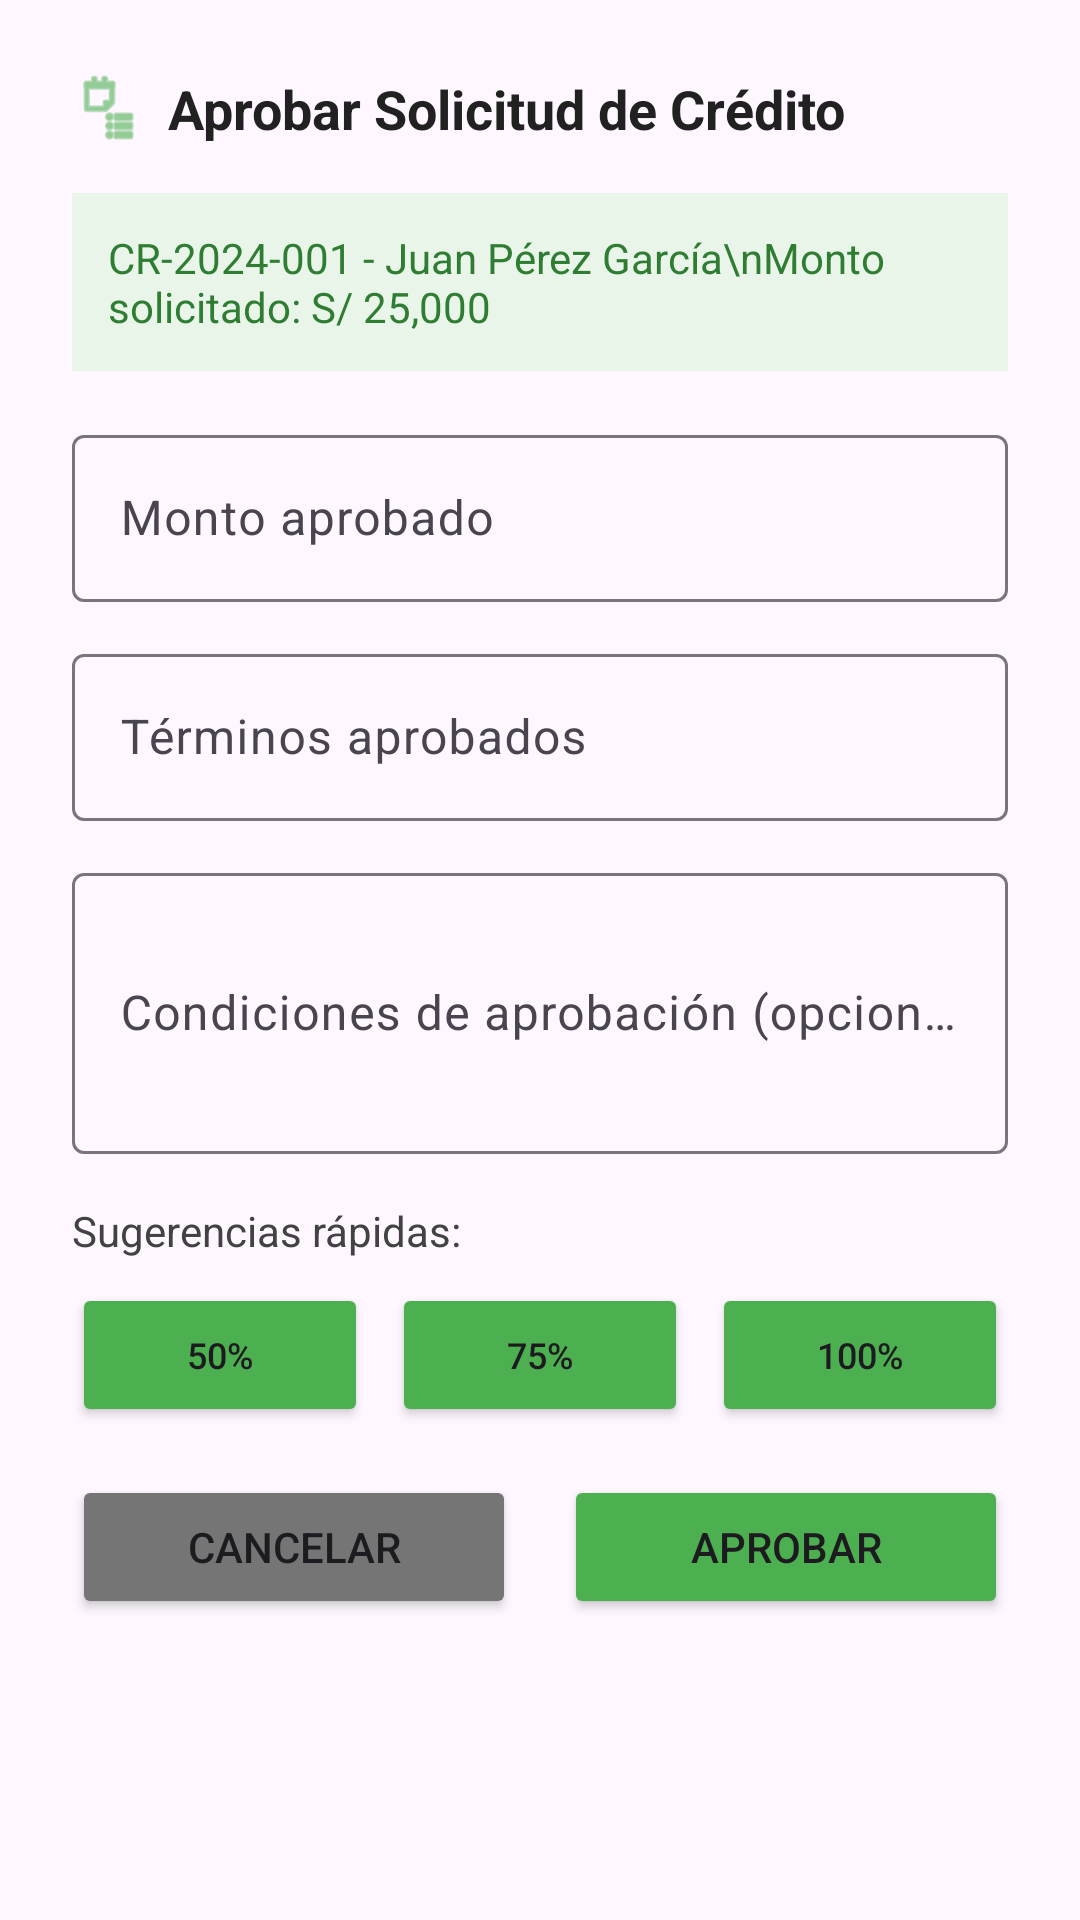

Named icons in this screenshot (1080×1920) and their bounding boxes, {"left": x1, "top": y1, "right": x2, "bottom": y2}:
agenda: {"left": 83, "top": 76, "right": 134, "bottom": 140}
